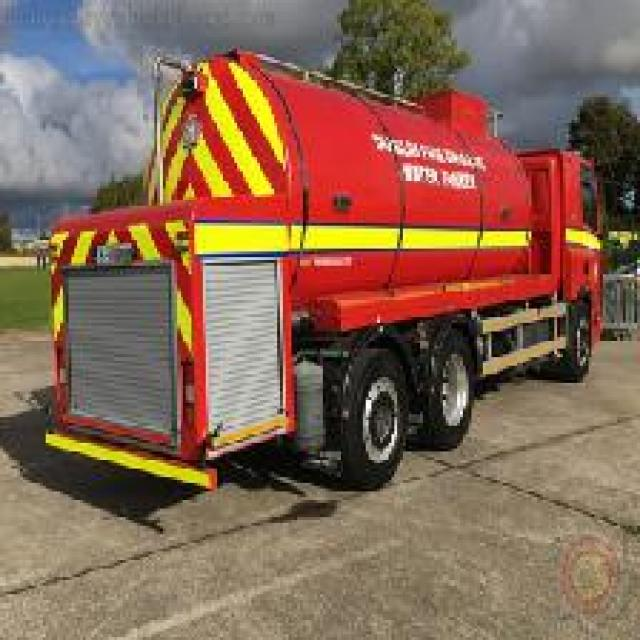Fire-truck: (40, 43, 606, 491)
